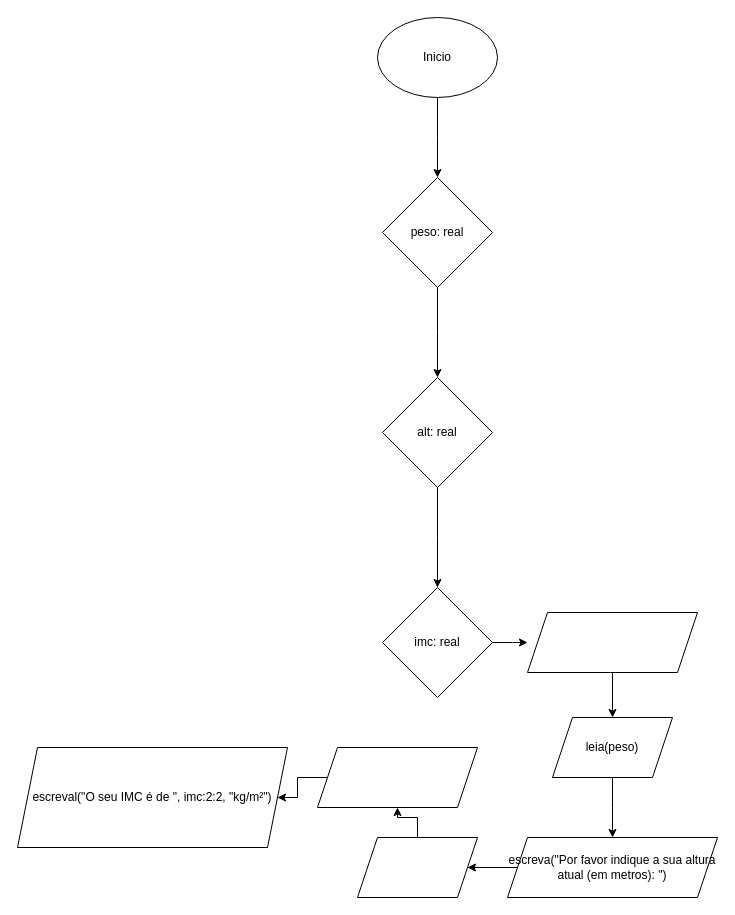
This 735x915 diagram has some shape labels left out. The box of each missing label's shape, as (x1, y1, x2, y2) in pixels:
escreva("Por favor indique o seu peso atual (em Kg): "): (526, 612, 698, 672)
imc <- peso / (alt * alt): (316, 746, 478, 808)
leia(alt): (356, 836, 478, 898)
